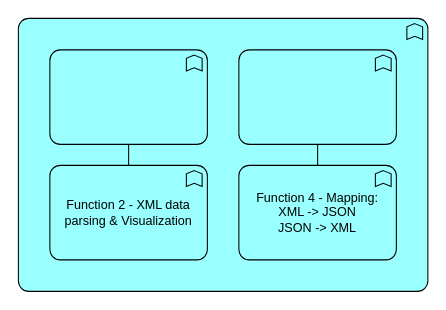
Image size: 446x310. Some labels were removed from this diagram. The shapes that lost their labels are listed below. From the top down, each one's centre as x and y in pixels, then its label:
pixel 128 96: Function 1 - XML download
pixel 317 96: Function 3 - Invoice creation (XML or JSON)
